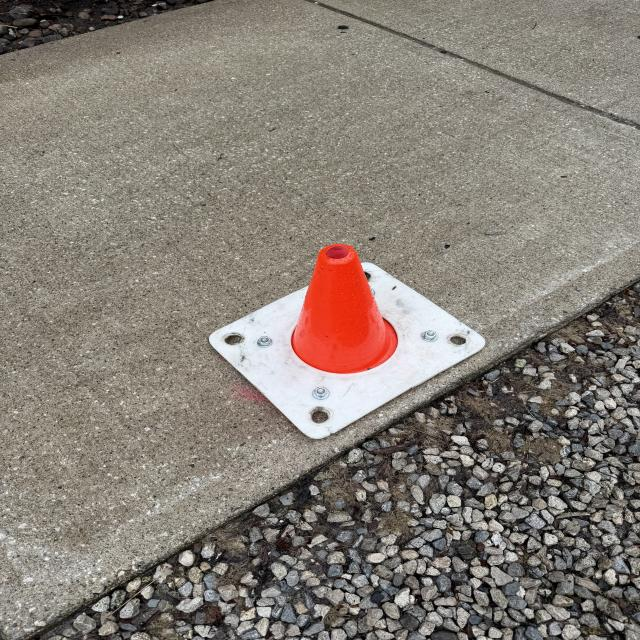Traffic Cone: (206, 242, 485, 440)
